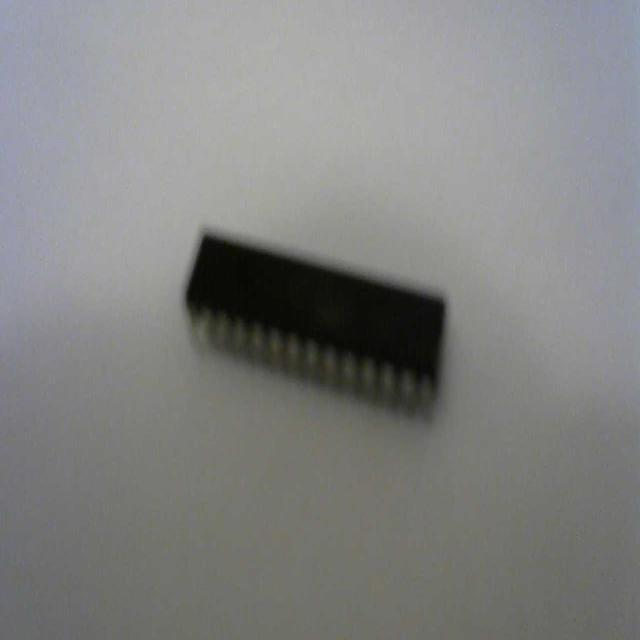atmega: (182, 222, 448, 422)
